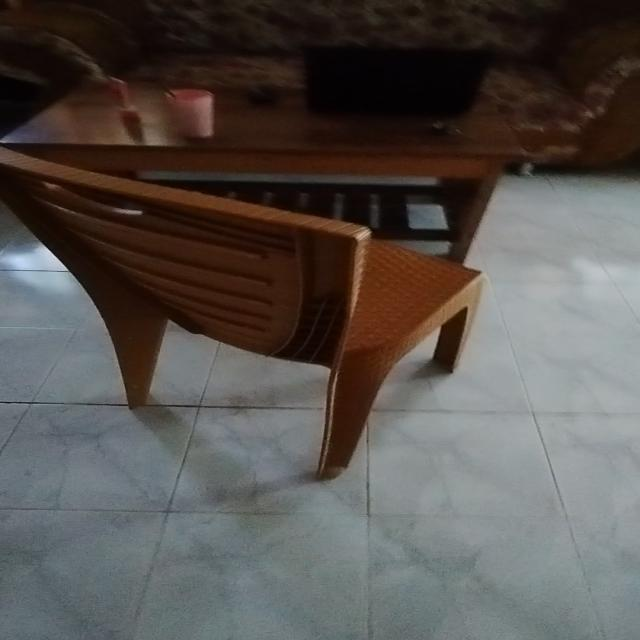chair: (0, 146, 507, 506)
